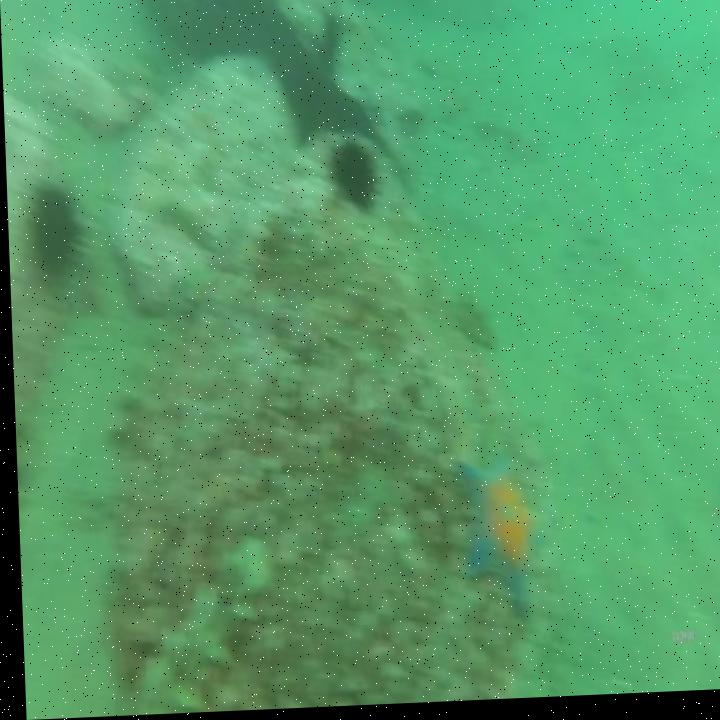echinus: (23, 170, 91, 293), (327, 129, 383, 221)
holothurian: (123, 535, 270, 716)
starfish: (450, 446, 547, 618)
